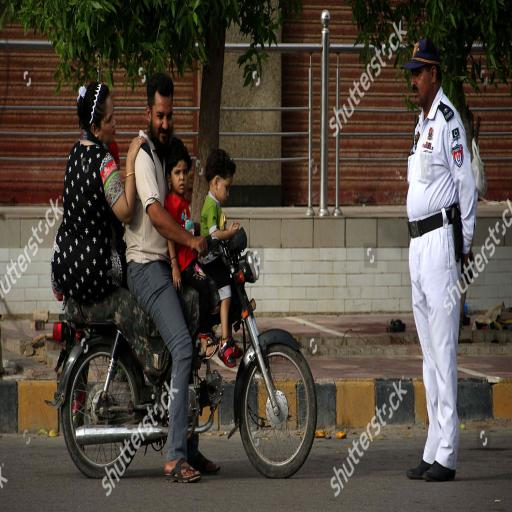overloading: (45, 222, 319, 483)
